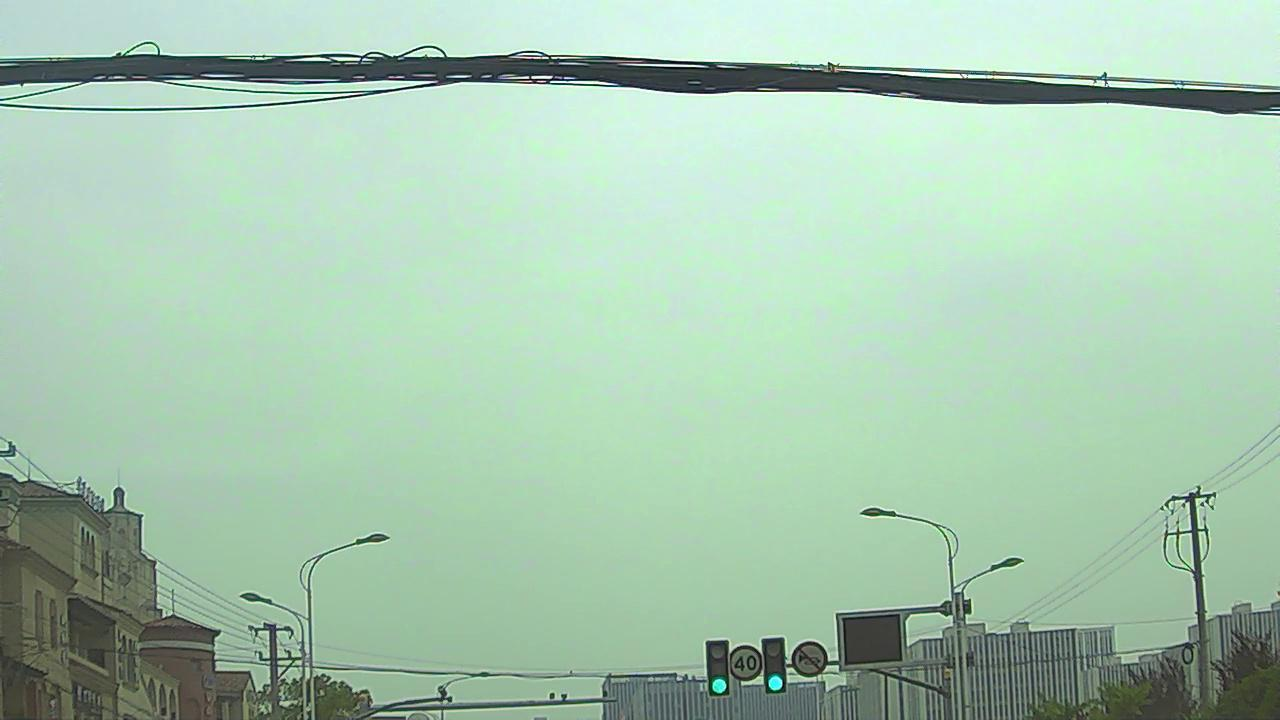traffic_light: (704, 639, 730, 698), (764, 636, 789, 693)
